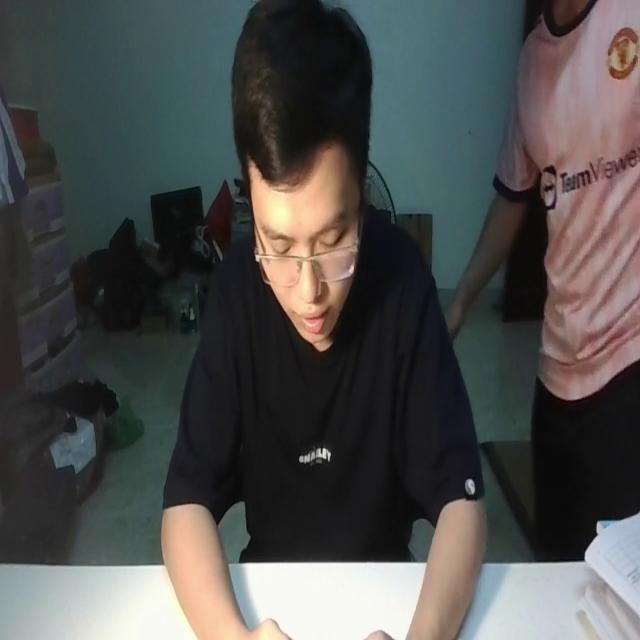extra_person: (435, 0, 640, 562)
student: (161, 0, 488, 640)
